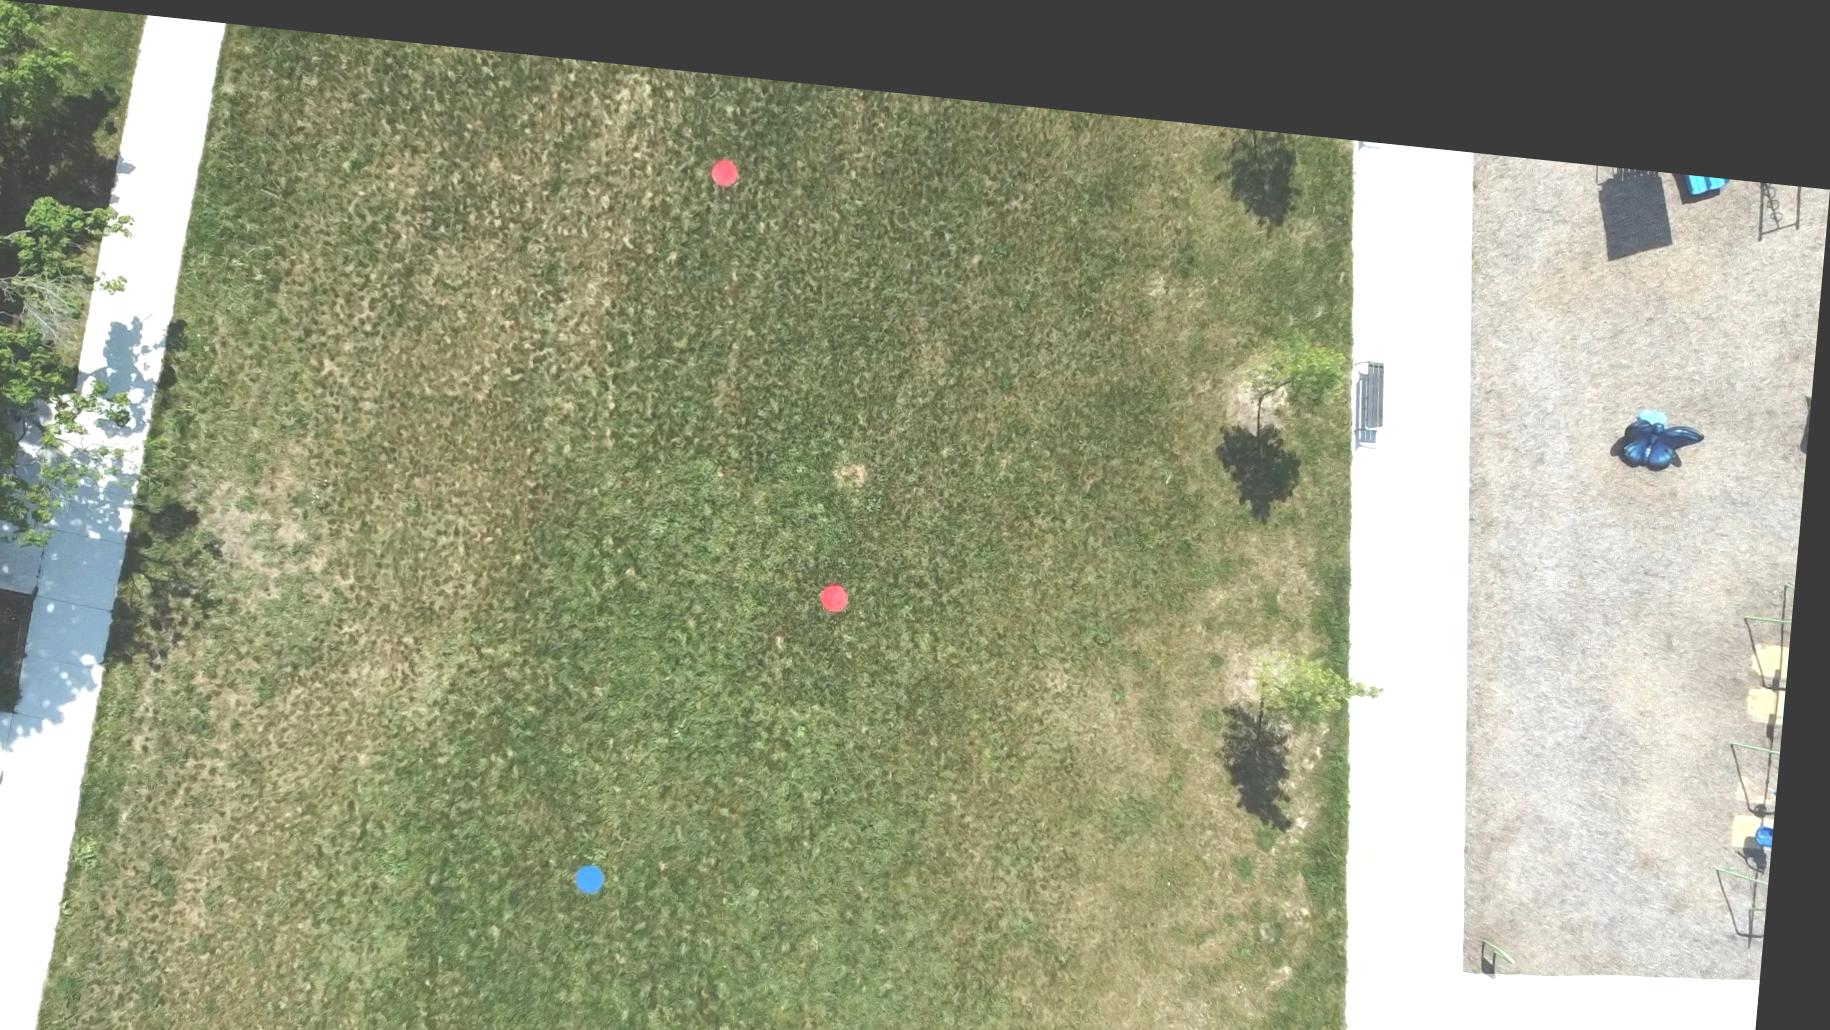Blue: (587, 848, 621, 882)
Red: (826, 562, 862, 596), (709, 141, 742, 173)
